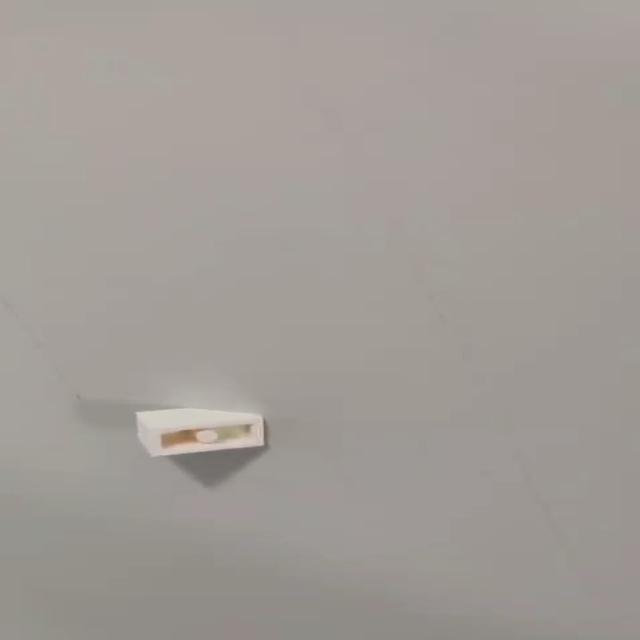P1x2x1: (130, 404, 272, 462)
